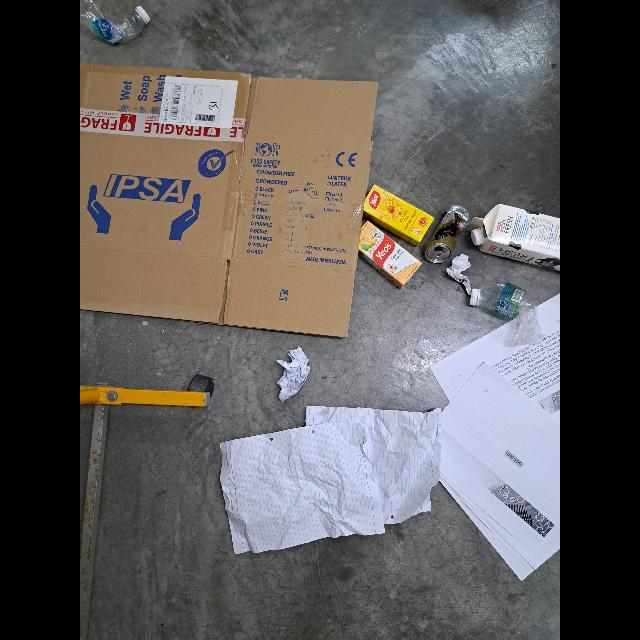aba de lata: (433, 250, 443, 260)
caixinha: (472, 202, 560, 272), (356, 221, 422, 289), (364, 184, 434, 246)
garrafa plástica: (80, 0, 158, 50)
lata: (427, 204, 471, 262)
papel: (430, 292, 560, 580), (218, 406, 440, 552), (270, 342, 312, 402), (446, 254, 474, 294)
papelão: (80, 57, 378, 343)
tampa plástica: (134, 6, 154, 30), (472, 227, 486, 247), (470, 288, 480, 306)
